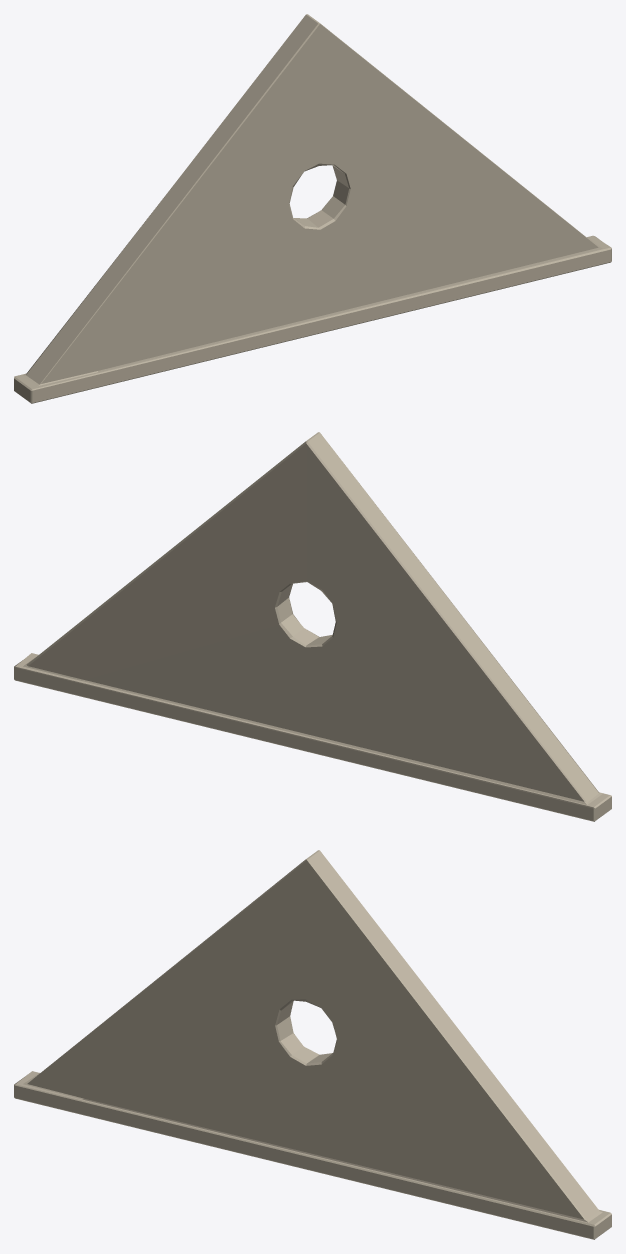
The model's file is gable_win_r12.fbx.
3 renders of one model, top to bottom at view 1: azimuth 30°, elevation 25°; view 2: azimuth 150°, elevation 25°; view 3: azimuth 330°, elevation 25°, orthographic.
Visible parts, largest first — view 1: gable_win_r12; view 2: gable_win_r12; view 3: gable_win_r12.
Boxes of the visible parts, box(x1,y1,x2,y2) form: gable_win_r12: box(14, 14, 611, 403); gable_win_r12: box(14, 432, 611, 821); gable_win_r12: box(14, 850, 611, 1239).
Bounding box in the file's own units: 2440 × 1236 × 130.
